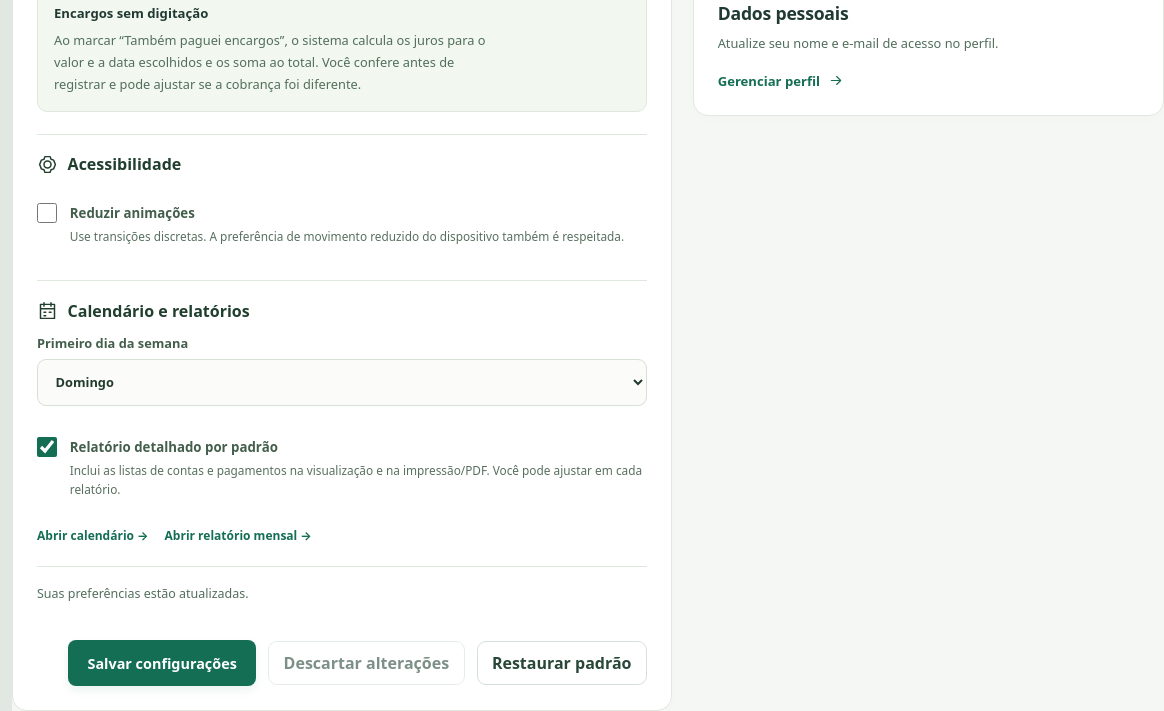
Test: restaurar padrões exige salvar e permite recuperar os valores persistidos
The width and height of the screenshot is (1164, 711).
(page scrolled)
Click the button "Restaurar padrão": (562, 663) 476,641 -> 647,685
(page scrolled)
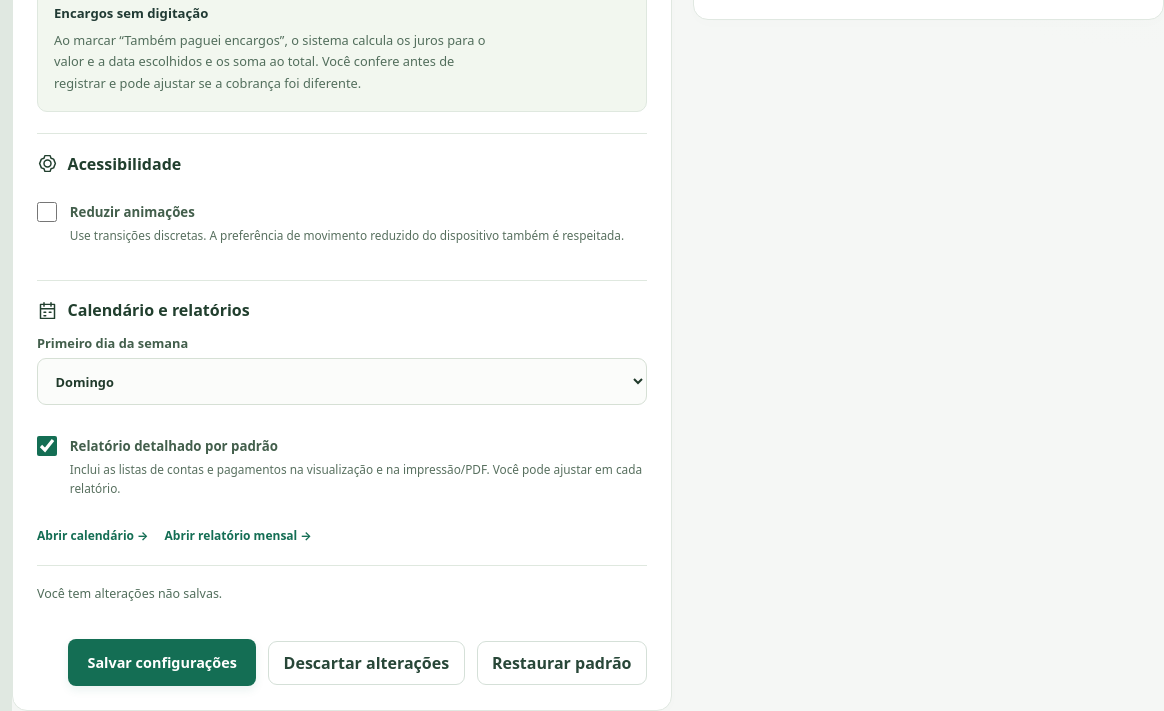
Click the button "Descartar alterações": (366, 663) 268,641 -> 464,685
(page scrolled)
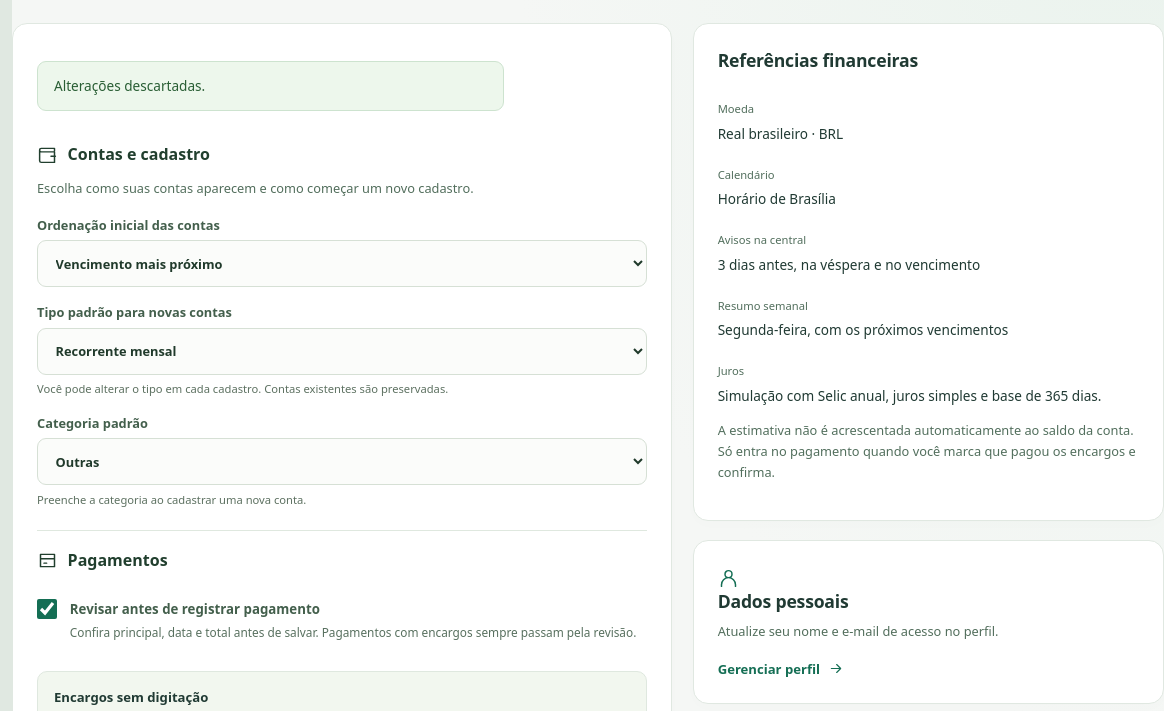
Expected: the 2nd dropdown shows "Recorrente mensal", 37,328 -> 647,374
